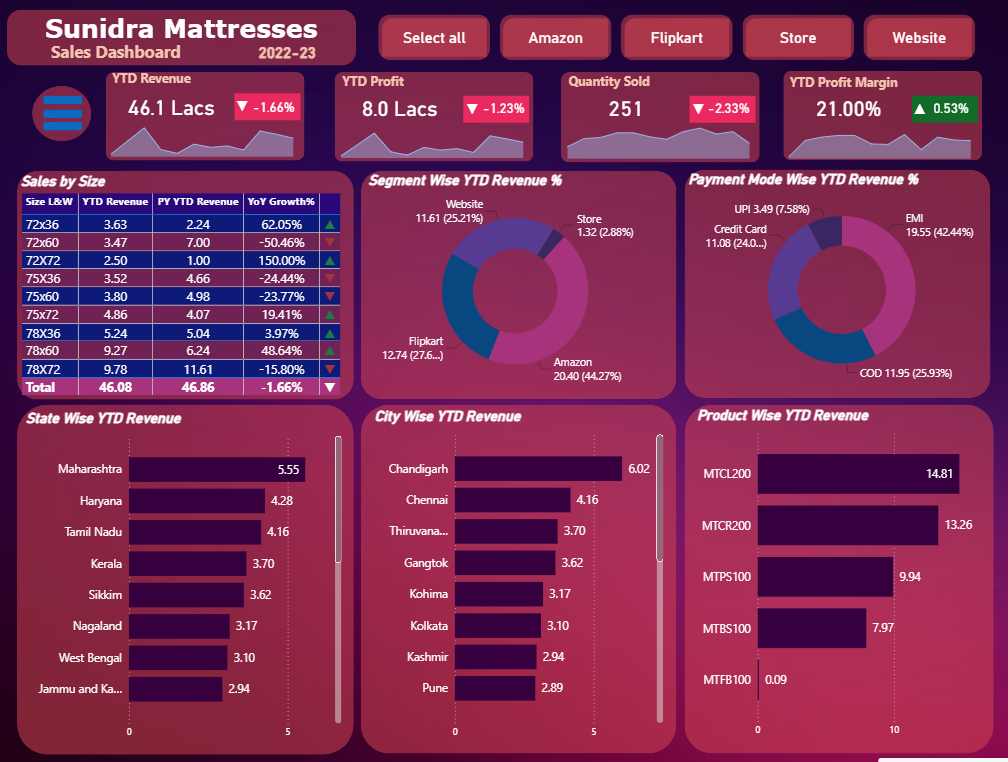

What the dashboard file says about the page in this screenshot:
{"tool":"powerbi","page":{"name":"Sales Dashboard","canvas":[1260,960],"ordinal":0},"visuals":[{"type":"shape","box":[31.1,100,75.4,70.5],"z":0,"group":"g1"},{"type":"shape","box":[12.3,207.7,427.7,290.8],"z":0},{"type":"shape","box":[0,3.1,443.2,71.4],"z":1000},{"type":"shape","box":[44.8,113.4,49.6,10.9],"z":1000,"group":"g1"},{"type":"textbox","box":[0,3.1,443.1,56.9],"z":2000},{"type":"shape","box":[44.8,129.5,49.6,10.9],"z":2000,"group":"g1"},{"type":"shape","box":[125.2,82,252.5,112.5],"z":3000},{"type":"shape","box":[44.8,145.8,49.6,10.9],"z":3000,"group":"g1"},{"type":"advancedSlicerVisual","fields":{"Values":["Order.Order Type"]},"box":[466.3,5.4,771.2,68.5],"z":4000},{"type":"areaChart","fields":{"Y":["Measures-YTD.YTD Revenue"],"Category":["Calender.Month"]},"box":[119.7,131.4,258,64.5],"z":5000},{"type":"shape","box":[288.2,109.3,83.7,34.3],"z":6000},{"type":"card","fields":{"Values":["Measures-YTD.Revenue Growth%"]},"box":[287.4,104,102.2,45.8],"z":7000},{"type":"card","fields":{"Values":["Measures-YTD.Revenue%_Icon"]},"box":[283.3,111.8,32.3,31.8],"z":8000},{"type":"textbox","box":[129.1,74.9,121.5,40.9],"z":9000},{"type":"shape","box":[415.9,82,252.7,114],"z":10000},{"type":"card","title":"YTD Revenue","fields":{"Values":["Measures-YTD.YTD_Profit_Amount"]},"box":[393.7,91.8,210.8,72],"z":11000},{"type":"areaChart","fields":{"Category":["Calender.Month"],"Y":["Measures-YTD.YTD Profit"]},"box":[410.6,133.6,258.1,64.5],"z":12000},{"type":"shape","box":[579.5,112.2,83.7,34.3],"z":13000},{"type":"card","fields":{"Values":["Measures-YTD.ProfitGrowth%"]},"box":[578.6,106.9,102.2,45.8],"z":14000},{"type":"card","fields":{"Values":["Measures-YTD.Profit%_Icon"]},"box":[574.5,114.8,32.3,31.8],"z":15000},{"type":"textbox","box":[420.3,77.9,121.5,40.9],"z":16000},{"type":"card","title":"YTD Revenue","fields":{"Values":["Measures-YTD.YTD_Revenue_Amount"]},"box":[103.3,90.2,211.5,72.1],"z":17000},{"type":"shape","box":[703.1,81.9,252.7,115.1],"z":18000},{"type":"card","title":"YTD Revenue","fields":{"Values":["Measures-YTD.YTD Quantity"]},"box":[680.9,91.6,210.8,72],"z":19000},{"type":"areaChart","fields":{"Category":["Calender.Month"],"Y":["Measures-YTD.Quantity"]},"box":[697.7,133.4,258.1,64.5],"z":20000},{"type":"shape","box":[866.6,112,83.7,34.3],"z":21000},{"type":"card","fields":{"Values":["Measures-YTD.Quantity Growth%"]},"box":[865.8,106.7,102.2,45.8],"z":22000},{"type":"card","fields":{"Values":["Measures-YTD.Growth%_Icon"]},"box":[861.7,114.5,32.3,31.8],"z":23000},{"type":"textbox","box":[707.5,77.7,121.5,40.9],"z":24000},{"type":"shape","box":[984.9,81.7,252.7,114],"z":25000},{"type":"card","title":"YTD Revenue","fields":{"Values":["Measures-YTD.Profit Margin %"]},"box":[962.8,92,210.8,72],"z":26000},{"type":"areaChart","fields":{"Category":["Calender.Month"],"Y":["Measures-YTD.Profit Margin %"]},"box":[979.7,133.8,258.1,64.5],"z":27000},{"type":"shape","box":[1148.6,112.4,83.7,34.3],"z":28000},{"type":"card","fields":{"Values":["Measures-YTD.Profit Margin Growth%"]},"box":[1147.7,107.1,102.2,45.8],"z":29000},{"type":"card","fields":{"Values":["Measures-YTD.ProfitMargin%_Icon"]},"box":[1143.6,114.9,32.3,31.8],"z":30000},{"type":"textbox","box":[988.5,78.7,209.8,41],"z":31000},{"type":"tableEx","title":"Sales by Size","fields":{"Values":["Product.Size_L&W","Measures-YTD.YTD Revenue (Ones)","Measures-YTD.PY YTD Revenue (Ones)","Measures-YTD.Revenue Growth%","Measures-YTD.Revenue%_Icon"]},"box":[12.3,210.8,429.2,292.3],"z":32000},{"type":"shape","box":[449.8,208.6,401,290.1],"z":33000},{"type":"donutChart","title":"Segment Wise YTD Revenue %","fields":{"Y":["Measures-YTD.YTD Revenue (Ones)"],"Category":["Order.Order Type"]},"box":[454.7,210.3,383,282],"z":34000},{"type":"group","id":"g1","title":"Group 1","box":[31.1,100,75.4,70.5],"z":35000},{"type":"shape","box":[31.1,91.8,75.4,78.7],"z":36000},{"type":"shape","box":[860.7,206.6,388.5,290.2],"z":37000},{"type":"donutChart","title":"Payment Mode Wise YTD Revenue %","fields":{"Y":["Measures-YTD.YTD Revenue (Ones)"],"Category":["Details.PaymentMode"]},"box":[860.7,208.2,400,282],"z":38000},{"type":"card","title":"YTD Revenue","fields":{"Values":["Measures-Sales.MaxFY"]},"box":[251,22.8,210.3,73.3],"z":38500},{"type":"textbox","box":[50.5,35.9,200.5,39.1],"z":38750},{"type":"shape","box":[12.3,504.6,427.7,444.6],"z":39000},{"type":"clusteredBarChart","title":"State Wise YTD Revenue","fields":{"Category":["Order.State"],"Y":["Measures-YTD.YTD Revenue (Ones)"]},"box":[18.5,510.8,410.8,427.7],"z":40000},{"type":"shape","box":[449.8,505.3,401,443.3],"z":41000},{"type":"clusteredBarChart","title":"City Wise YTD Revenue","fields":{"Y":["Measures-YTD.YTD Revenue (Ones)"],"Category":["Order.City"]},"box":[461.3,510.2,376.5,428.7],"z":42000},{"type":"shape","box":[860.6,505.3,392.8,443.3],"z":43000},{"type":"clusteredBarChart","title":"Product Wise YTD Revenue","fields":{"Y":["Measures-YTD.YTD Revenue (Ones)"],"Category":["Product.Model"]},"box":[872,508.5,387.9,428.7],"z":44000},{"type":"shape","box":[31.1,95.1,75.4,75.4],"z":51000}]}

Visuals, with their boxes in screenshot pixels (x1, y1, x2, y2), scaled from the page's 1260x960 canvas onto the 1008x762 screenshot:
shape: 25/79/85/135
shape: 10/165/352/396
shape: 0/2/355/59
shape: 36/90/76/99
textbox: 0/2/354/48
shape: 36/103/76/111
shape: 100/65/302/154
shape: 36/116/76/124
advancedSlicerVisual - Order.Order Type: 373/4/990/59
areaChart - Measures-YTD.YTD Revenue x Calender.Month: 96/104/302/155
shape: 231/87/298/114
card - Measures-YTD.Revenue Growth%: 230/83/312/119
card - Measures-YTD.Revenue%_Icon: 227/89/252/114
textbox: 103/59/200/92
shape: 333/65/535/156
"YTD Revenue" card: 315/73/484/130
areaChart - Calender.Month x Measures-YTD.YTD Profit: 328/106/535/157
shape: 464/89/531/116
card - Measures-YTD.ProfitGrowth%: 463/85/545/121
card - Measures-YTD.Profit%_Icon: 460/91/485/116
textbox: 336/62/433/94
"YTD Revenue" card: 83/72/252/129
shape: 562/65/765/156
"YTD Revenue" card: 545/73/713/130
areaChart - Calender.Month x Measures-YTD.Quantity: 558/106/765/157
shape: 693/89/760/116
card - Measures-YTD.Quantity Growth%: 693/85/774/121
card - Measures-YTD.Growth%_Icon: 689/91/715/116
textbox: 566/62/663/94
shape: 788/65/990/155
"YTD Revenue" card: 770/73/939/130
areaChart - Calender.Month x Measures-YTD.Profit Margin %: 784/106/990/157
shape: 919/89/986/116
card - Measures-YTD.Profit Margin Growth%: 918/85/1000/121
card - Measures-YTD.ProfitMargin%_Icon: 915/91/941/116
textbox: 791/62/959/95
"Sales by Size" tableEx: 10/167/353/399
shape: 360/166/681/396
"Segment Wise YTD Revenue %" donutChart: 364/167/670/391
"Group 1" group: 25/79/85/135
shape: 25/73/85/135
shape: 689/164/999/394
"Payment Mode Wise YTD Revenue %" donutChart: 689/165/1007/389
"YTD Revenue" card: 201/18/369/76
textbox: 40/28/201/60
shape: 10/401/352/753
"State Wise YTD Revenue" clusteredBarChart: 15/405/343/745
shape: 360/401/681/753
"City Wise YTD Revenue" clusteredBarChart: 369/405/670/745
shape: 688/401/1003/753
"Product Wise YTD Revenue" clusteredBarChart: 698/404/1007/744
shape: 25/75/85/135
